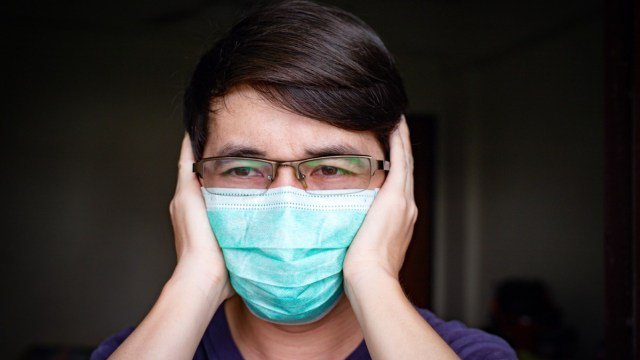mask: (164, 18, 392, 323)
